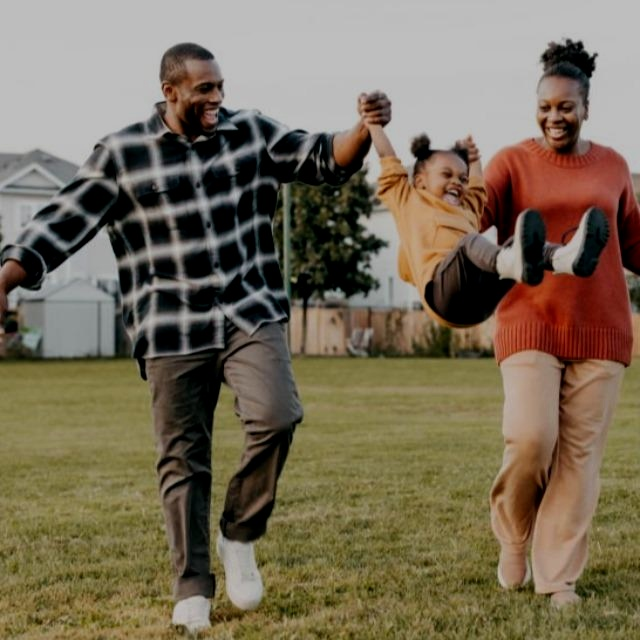Sin_Casco_Mascarrilla: (159, 43, 227, 138), (531, 61, 594, 151)
Sin_Chaleco: (112, 111, 292, 365), (498, 141, 637, 366)
